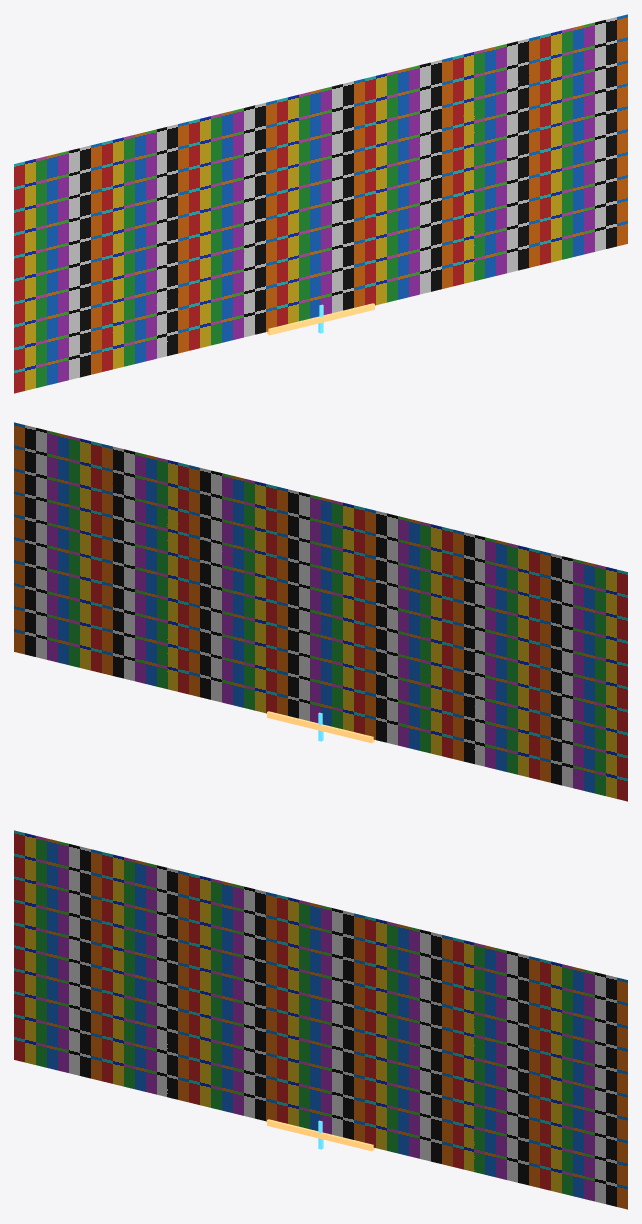
Rendered from temporal_emissive.gltf.
The picture shows the model from 3 angles, top to bottom: view 1: azimuth 30°, elevation 25°; view 2: azimuth 150°, elevation 25°; view 3: azimuth 330°, elevation 25°; orthographic projection.
Parts seen in each view (by area): view 1: backdrop_wall, emissive_bar; view 2: backdrop_wall, emissive_bar; view 3: backdrop_wall, emissive_bar.
Part boxes in pixels (x1,y1,x2,y2): backdrop_wall: [14, 14, 627, 393]; emissive_bar: [267, 303, 374, 335]; backdrop_wall: [14, 422, 627, 801]; emissive_bar: [267, 711, 374, 743]; backdrop_wall: [14, 830, 627, 1209]; emissive_bar: [267, 1119, 374, 1151].
Size of what is drawn, in the model's own units: 14 by 5.3 by 0.12.
3 materials, 1 textured.
